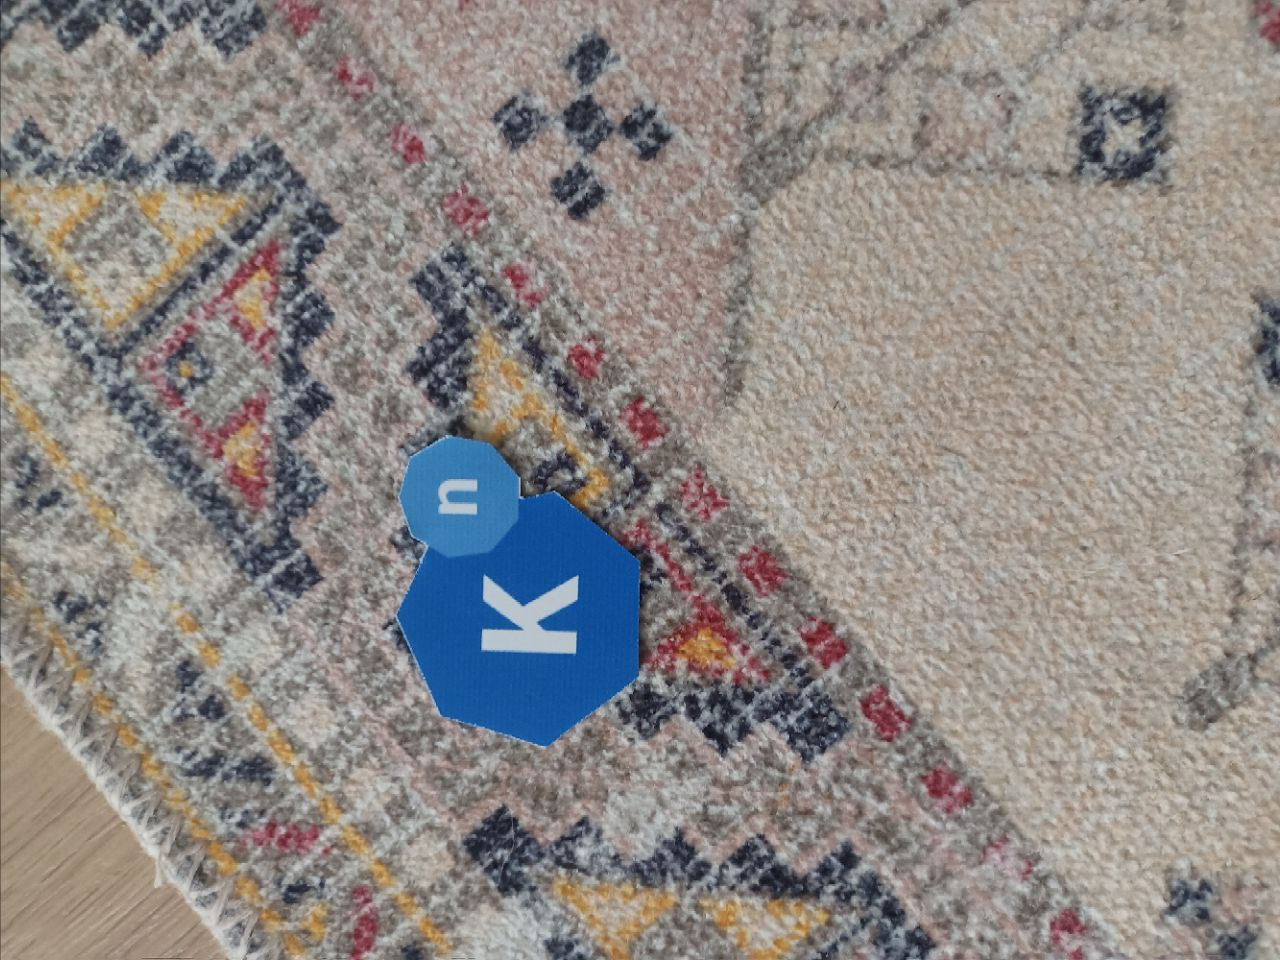knative: (395, 433, 646, 750)
